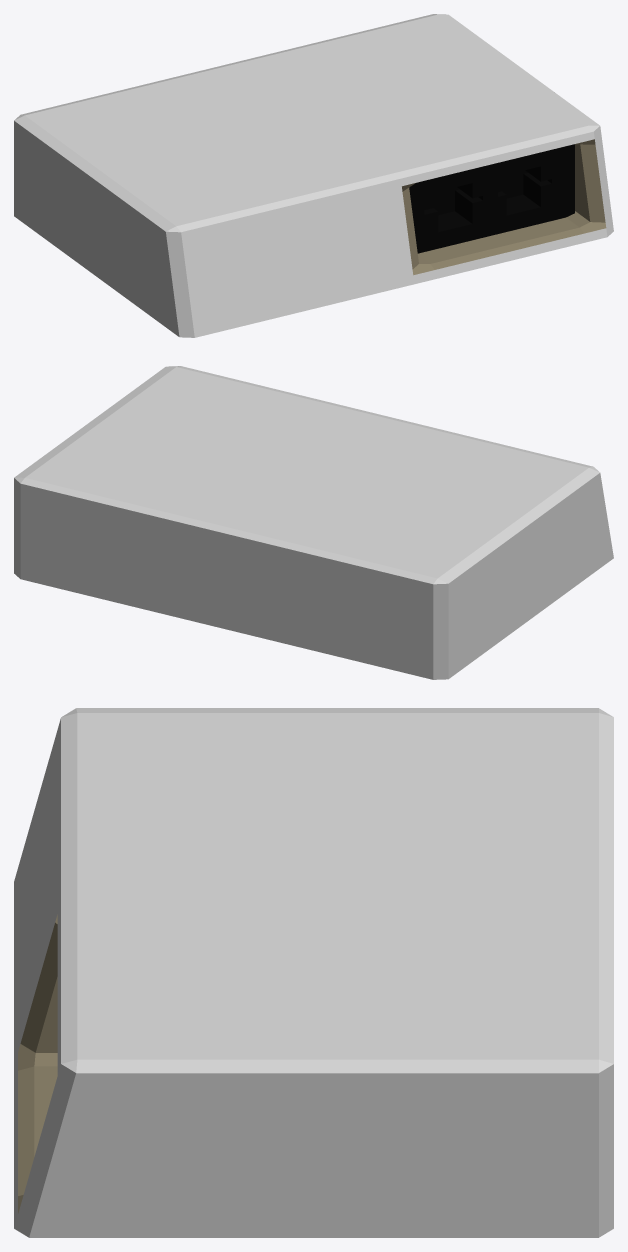
Rendered from computer.glb.
The picture shows the model from 3 angles, top to bottom: view 1: azimuth 30°, elevation 25°; view 2: azimuth 150°, elevation 25°; view 3: azimuth 270°, elevation 25°; orthographic projection. The views are drawn at different scales.
Visible parts, largest first — view 1: Cube.010; view 2: Cube.010; view 3: Cube.010.
Part boxes in pixels (x1,y1,x2,y2): Cube.010: [14, 14, 613, 337]; Cube.010: [14, 366, 613, 679]; Cube.010: [14, 708, 613, 1237].
Size of the model in its own units: 3.56 by 0.7876 by 2.47.
